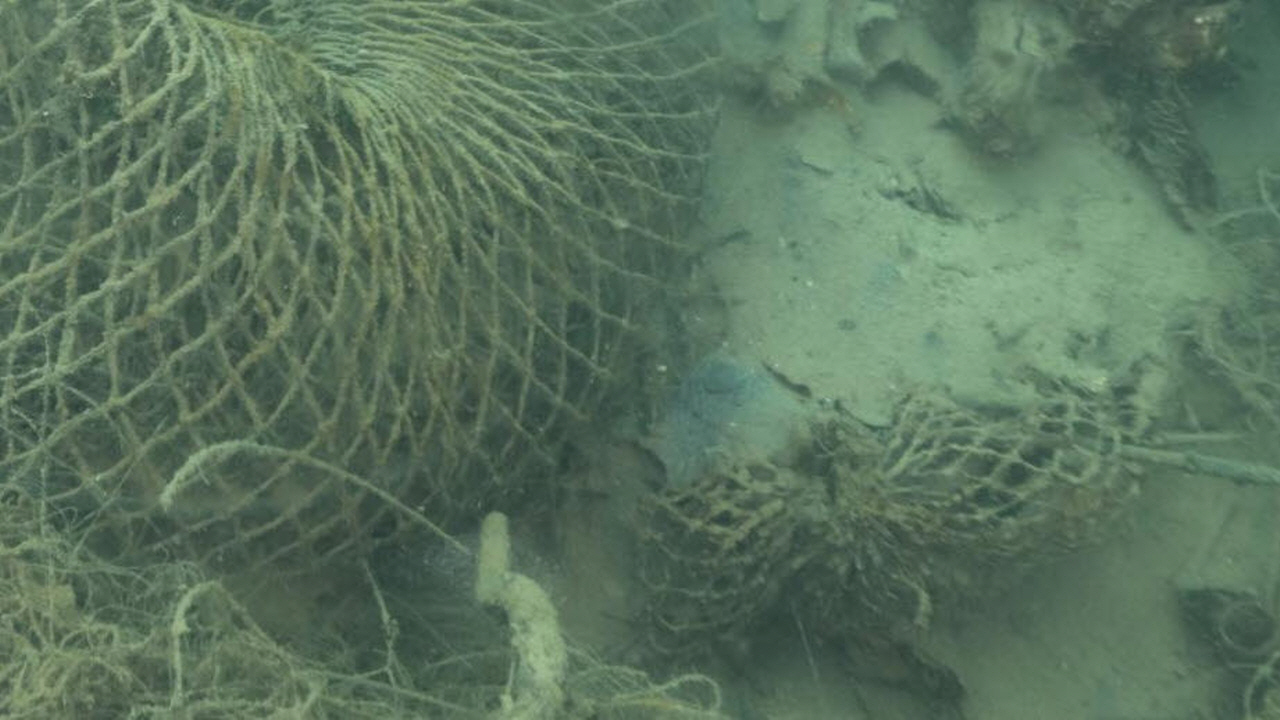fish net: (0, 0, 726, 577), (636, 394, 1145, 654)
